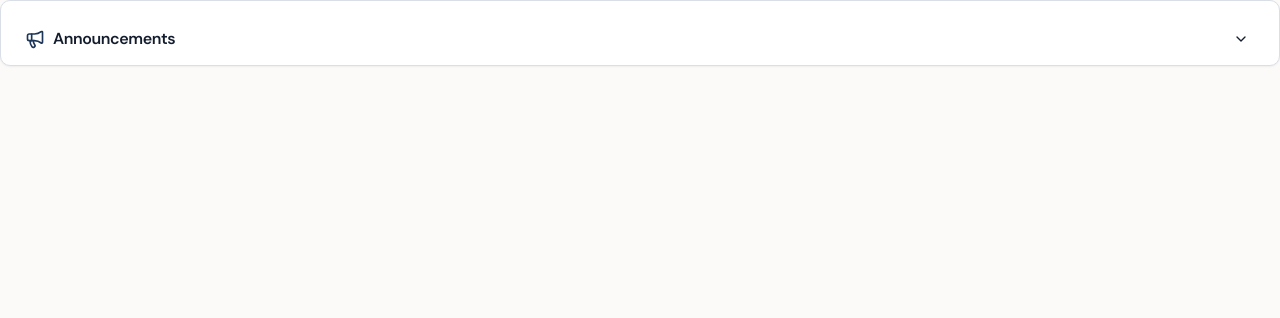
AnnouncementsSection › withdraws the receipt when the student unticks it
Later steps or results of the test are not shown.
What coordinates should you click on to do the following:
click the button named "Expand announcements"
I would click on:
 (1241, 39)
Its box is top-left (1227, 25), bottom-right (1255, 53).
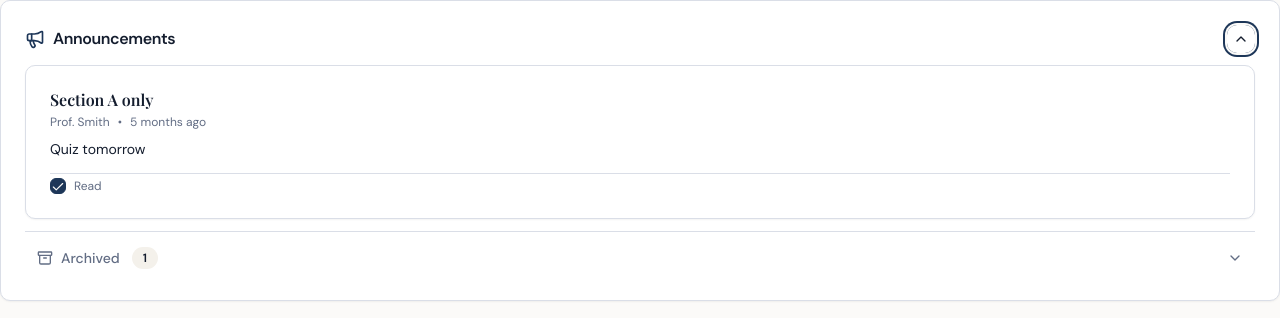
Check: the heading "Section A only" is shown, box top-left (50, 90), bottom-right (154, 110)
